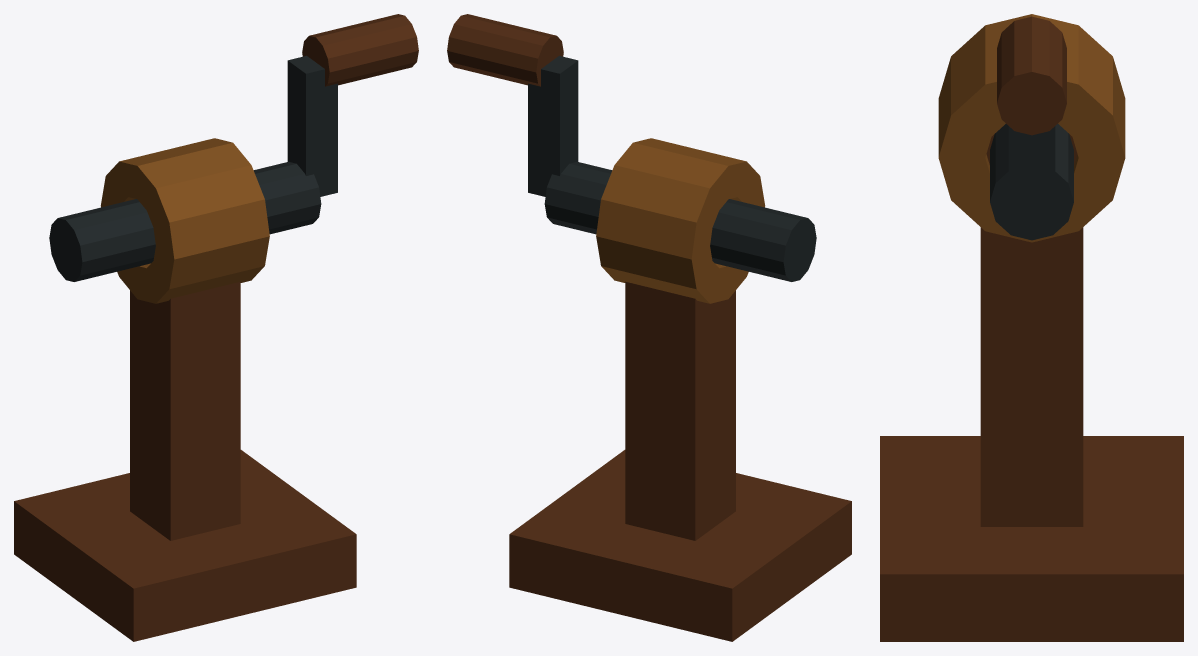
File: vf_hand_crank.obj
3 views of the same model, side by side, from view 1: azimuth 30°, elevation 25°; view 2: azimuth 150°, elevation 25°; view 3: azimuth 270°, elevation 25° (orthographic). The views are drawn at different scales.
Visible parts, largest first — view 1: Static_Oak, Static_Bronze, Crank_Iron, Crank_Oak; view 2: Static_Oak, Static_Bronze, Crank_Iron, Crank_Oak; view 3: Static_Oak, Static_Bronze, Crank_Iron, Crank_Oak.
Boxes of the visible parts, x1,y1,x2,y2 form: Static_Oak: (14,281,356,641); Static_Bronze: (100,138,269,303); Crank_Iron: (49,55,337,281); Crank_Oak: (302,14,418,86); Static_Oak: (509,281,851,641); Static_Bronze: (596,138,765,303); Crank_Iron: (528,55,816,281); Crank_Oak: (447,14,563,86); Static_Oak: (880,134,1183,641); Static_Bronze: (938,14,1125,242); Crank_Iron: (990,124,1073,240); Crank_Oak: (997,16,1066,135).
Size of the model in its own units: 1.06 by 1.5 by 0.65.
